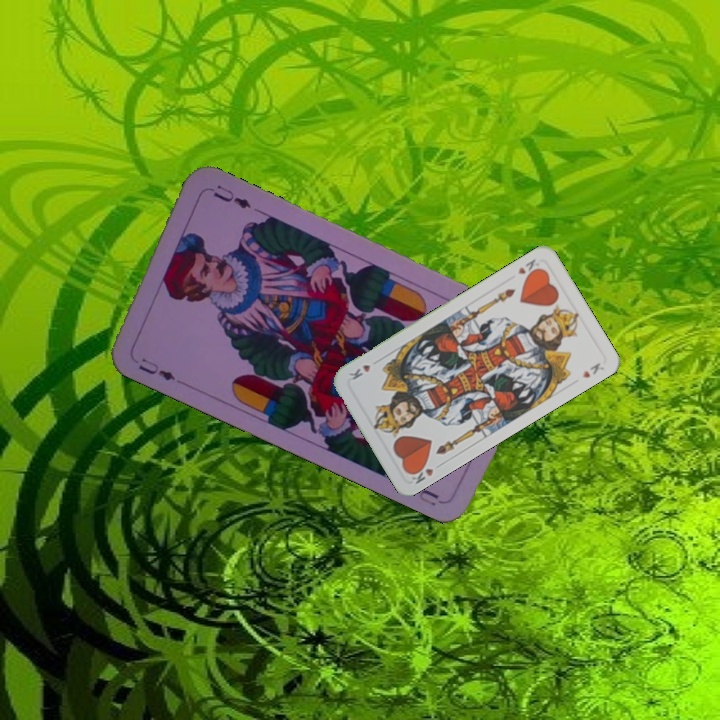EU: (134, 354, 178, 383)
HK: (405, 459, 445, 486), (514, 255, 545, 280)
